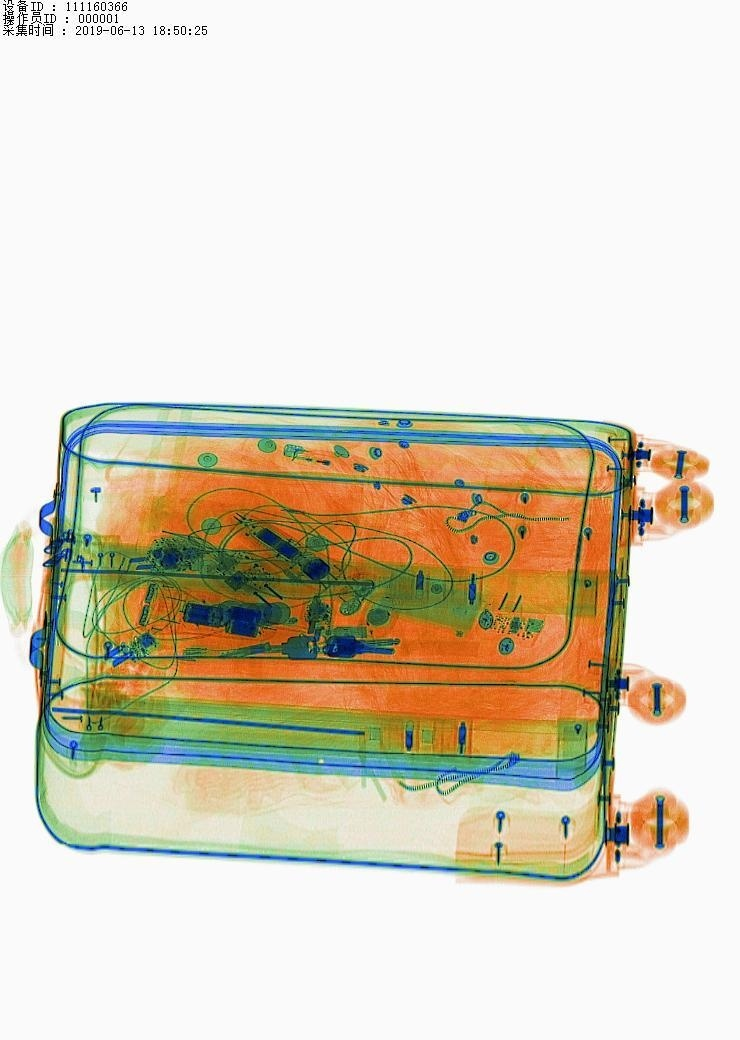NonmetallicFire: (284, 433, 390, 477)
